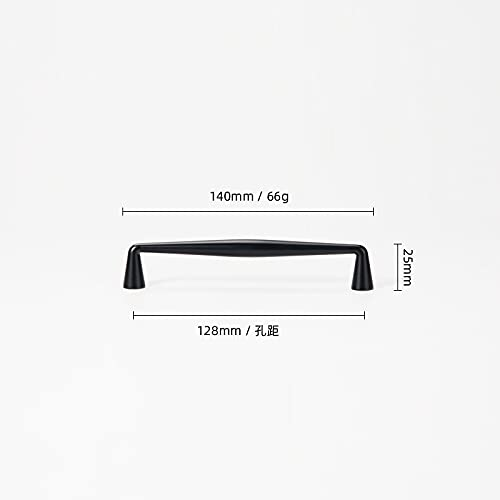/: (258, 191, 262, 201), (246, 326, 250, 336)
140mm: (211, 191, 253, 201)
669: (267, 192, 288, 203)
